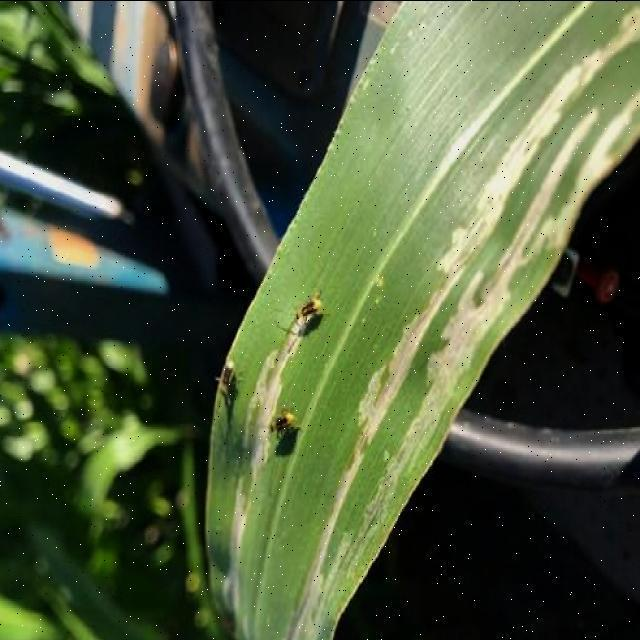trips: (254, 400, 308, 450), (286, 284, 332, 328), (215, 352, 242, 402)
